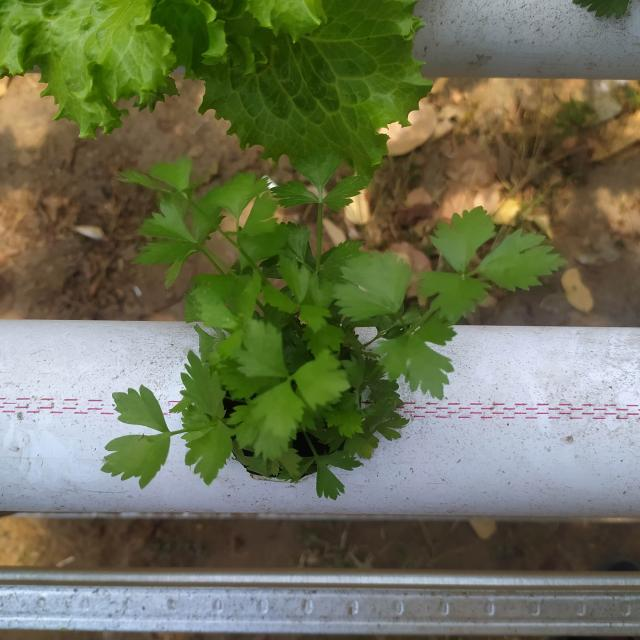Wet Waste: (77, 137, 575, 504)
